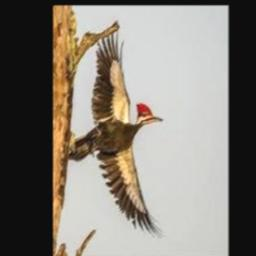Woodpecker: (67, 30, 165, 241)
